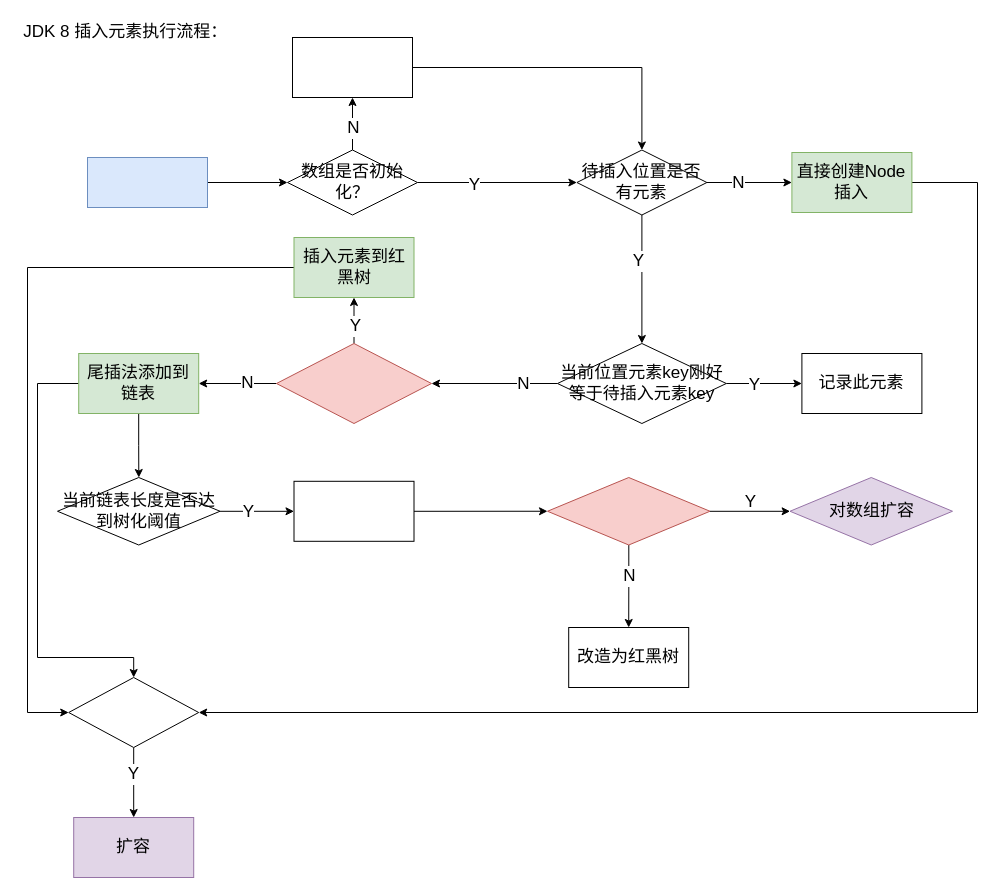
This 1003x895 diagram has some shape labels left out. Here are the shapes that lost their labels. From the top down, the centre of each, then its label:
At point 352,67: "resize() 对数组初始化".
At point 147,182: "putVal插入元素".
At point 354,383: "当前位置元素是否为TreeNode".
At point 353,510: "进入treeifyBin".
At point 628,510: "数组是否小于64".
At point 133,712: "元素个数是否达到阈值".
